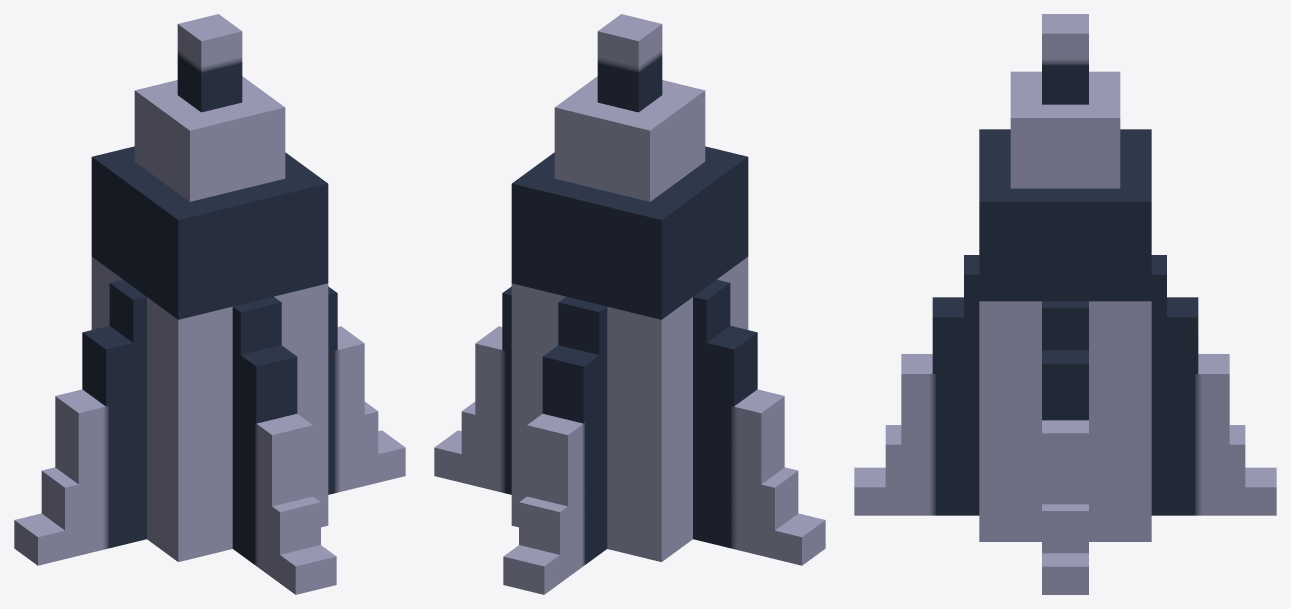
File: BossShowerRocket.fbx
The picture shows the model from 3 angles, left to right: view 1: azimuth 30°, elevation 25°; view 2: azimuth 150°, elevation 25°; view 3: azimuth 270°, elevation 25°; orthographic projection.
Visible parts, largest first — view 1: Object; view 2: Object; view 3: Object.
Boxes of the visible parts, x1,y1,x2,y2 form: Object: (14, 14, 405, 594); Object: (434, 14, 825, 594); Object: (854, 14, 1276, 594).
Size of the model in its own units: 27 by 34 by 27.
